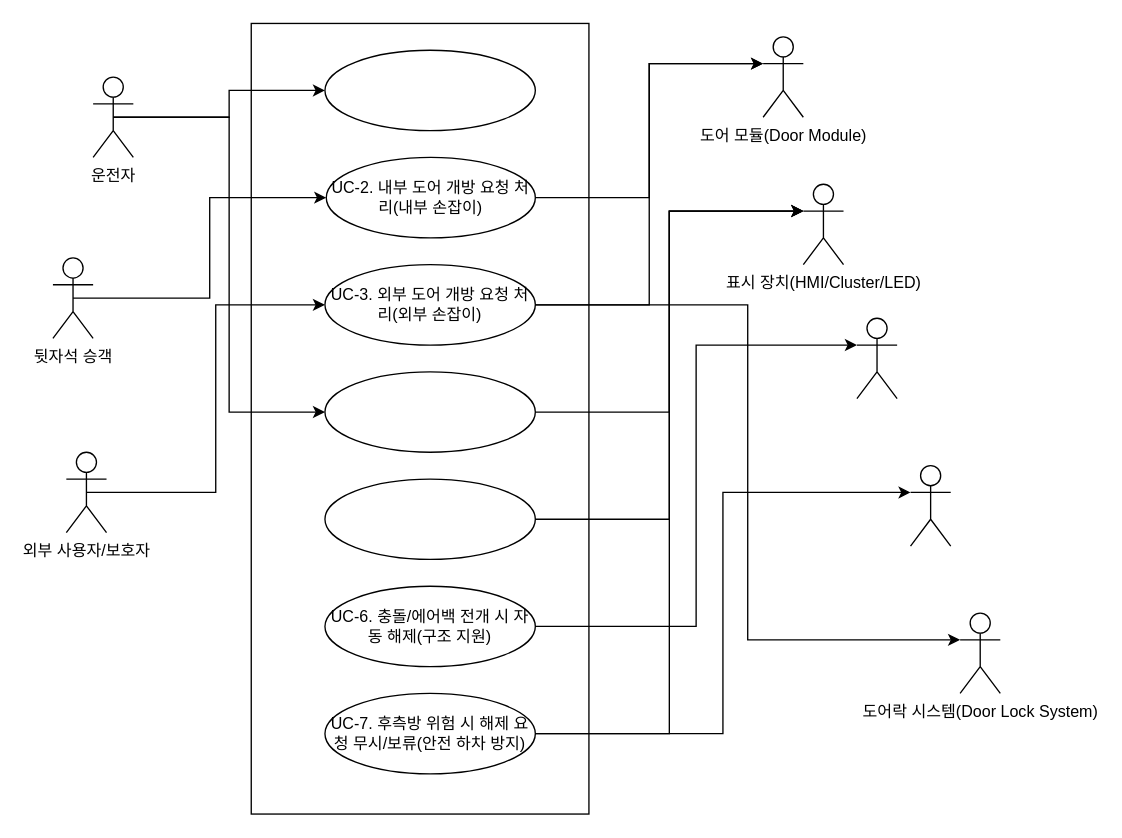
Some shapes in this 1122 by 838 pixel diagram are drawn without their labels. Here are the shapes that lost their labels. From the top down, the centre of each, then its label:
point (429, 90): UC-1. 차일드 락 설정/해제(운전석 원터치)
point (876, 358): 에어백/충돌 판단 ECU(Airbag/Crash ECU)
point (429, 411): UC-4. 상태 표시
point (429, 518): UC-5. 이상/고장 경고 표시
point (930, 505): 후측방 위험 감지 시스템(RCTA)
